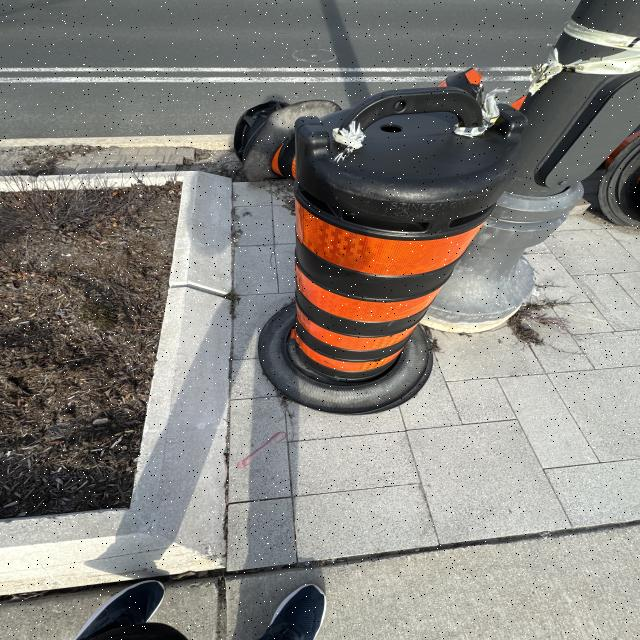Teraffic Barrel: (259, 87, 526, 413), (234, 100, 340, 181)
